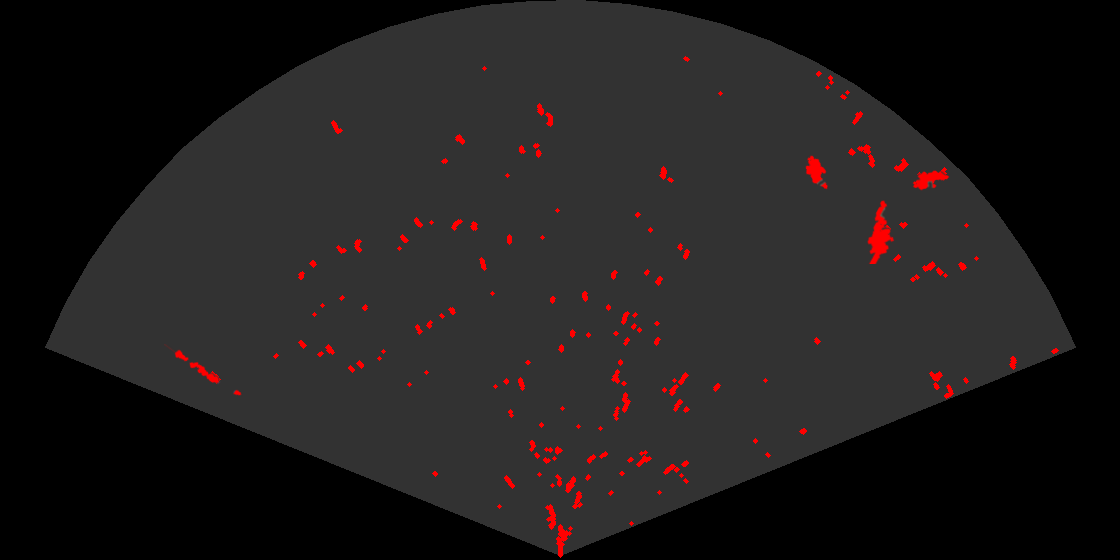AUV: (804, 154, 830, 191), (911, 169, 951, 192)
chain: (164, 344, 243, 397)
frogman: (866, 199, 896, 264)
